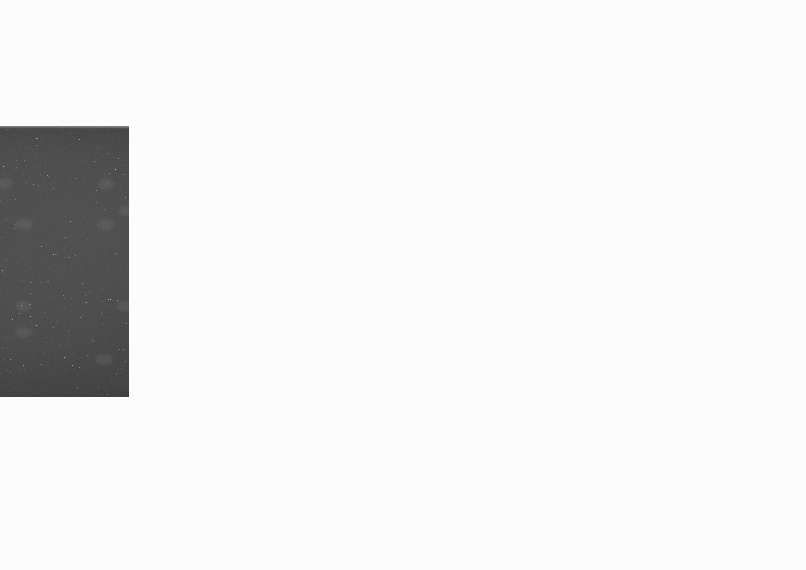cluster: (97, 300, 129, 366), (1, 175, 33, 233), (96, 177, 129, 232), (15, 299, 34, 340)
